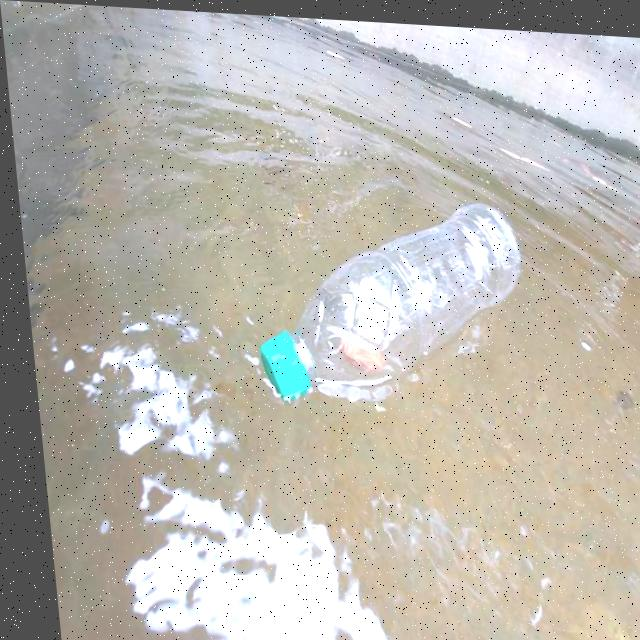waterbottle: (229, 185, 537, 434)
